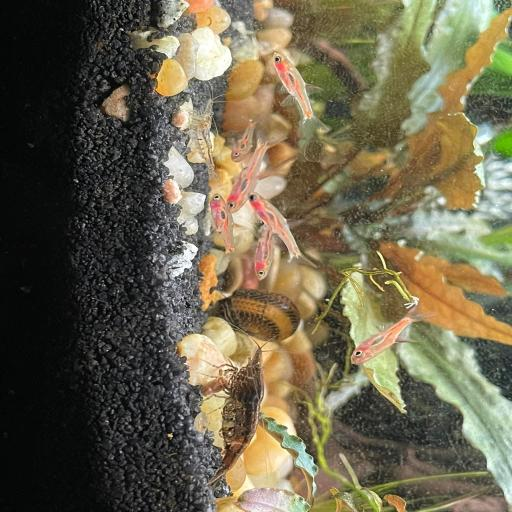Shrimp: (192, 334, 275, 486), (182, 81, 225, 191)
Snail: (232, 289, 302, 345)
